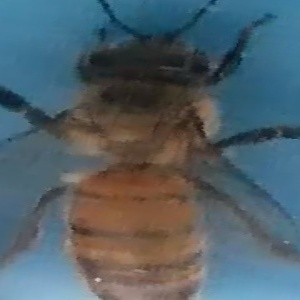bee: (22, 1, 287, 297)
